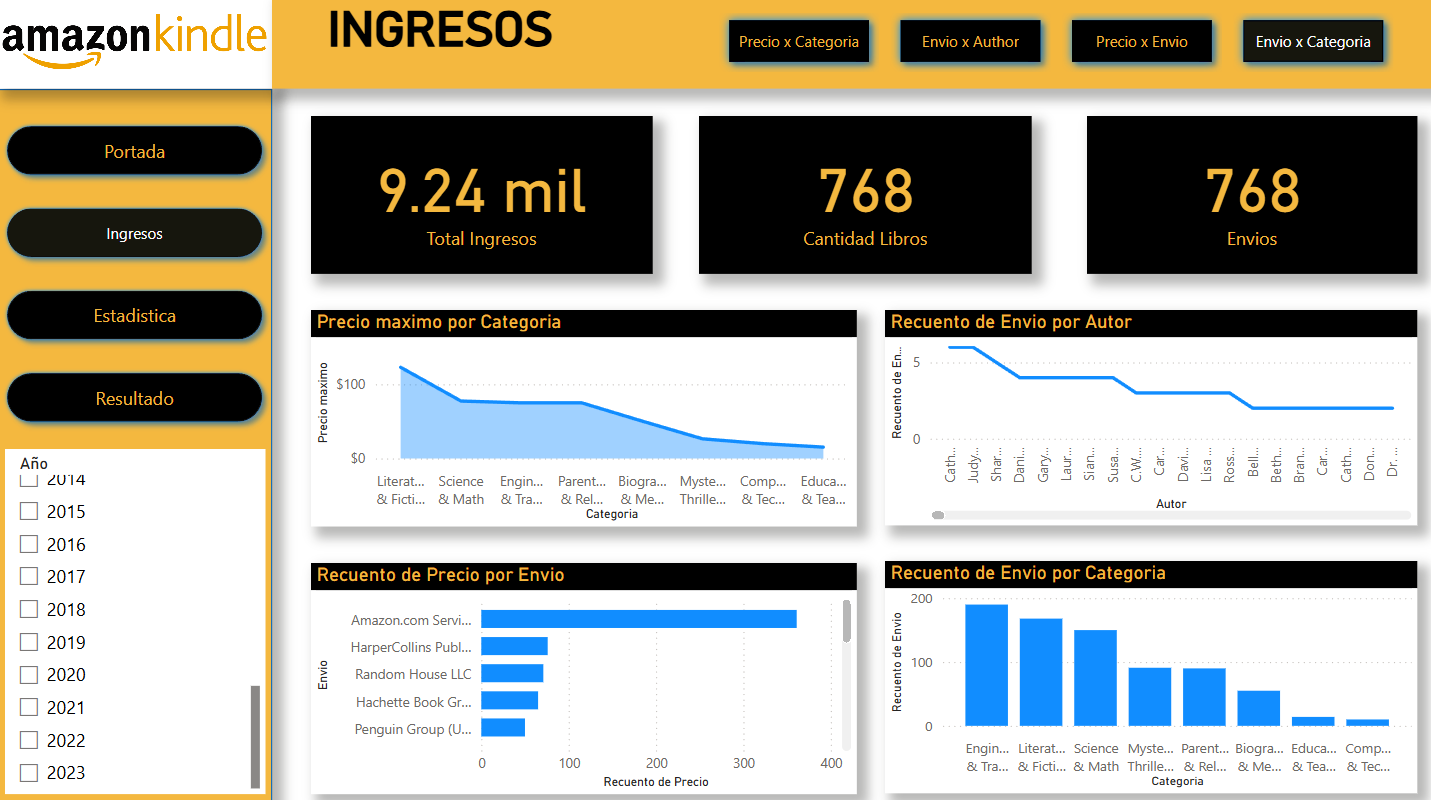

The dashboard page shown, as its layout file describes it:
{"tool":"powerbi","page":{"name":"Ingresos","canvas":[1280,720],"ordinal":1},"visuals":[{"type":"card","fields":{"Values":["Medida.Total Ingresos"]},"box":[278.3,107.7,302.5,140],"z":0},{"type":"barChart","fields":{"Category":["Libros.soldBy"],"Y":["Libros.price"]},"box":[278.3,503.6,483.9,204.7],"z":1000},{"type":"shape","box":[0,83.5,244.2,636.5],"z":2000},{"type":"pageNavigator","box":[0,107.7,244.2,280.1],"z":3000},{"type":"image","box":[0,0,244.2,83.5],"z":4000},{"type":"textbox","box":[244.2,0,1036,83.5],"z":5000},{"type":"card","fields":{"Values":["Medida.Cantidad Libros"]},"box":[622.1,107.7,295.4,140],"z":6000},{"type":"card","fields":{"Values":["Medida.Envios"]},"box":[966.9,107.7,292.7,140],"z":7000},{"type":"columnChart","fields":{"Category":["Libros.category_name"],"Y":["Libros.Envio"]},"box":[787.3,501.8,472.2,206.5],"z":8000},{"type":"lineChart","fields":{"Category":["Libros.author"],"Y":["Libros.Envio"]},"box":[787.3,279.2,472.2,191.2],"z":9000},{"type":"stackedAreaChart","fields":{"Category":["Libros.Categoria"],"Y":["Medida.Precio maximo"]},"box":[278.4,279.5,483.7,191.7],"z":10000},{"type":"slicer","fields":{"Values":["Calendario.Año"]},"box":[7.2,402.2,230.7,306.1],"z":11000},{"type":"bookmarkNavigator","box":[640,13.1,599.6,55.5],"z":12000}]}

Visuals, with their boxes in screenshot pixels (x1, y1, x2, y2), scaled from the page's 1280x720 canvas onto the 1431x800 screenshot:
card - Medida.Total Ingresos: <region>311, 120, 649, 275</region>
barChart - Libros.soldBy x Libros.price: <region>311, 560, 852, 787</region>
shape: <region>0, 93, 273, 799</region>
pageNavigator: <region>0, 120, 273, 431</region>
image: <region>0, 0, 273, 93</region>
textbox: <region>273, 0, 1430, 93</region>
card - Medida.Cantidad Libros: <region>695, 120, 1026, 275</region>
card - Medida.Envios: <region>1081, 120, 1408, 275</region>
columnChart - Libros.category_name x Libros.Envio: <region>880, 558, 1408, 787</region>
lineChart - Libros.author x Libros.Envio: <region>880, 310, 1408, 523</region>
stackedAreaChart - Libros.Categoria x Medida.Precio maximo: <region>311, 311, 852, 524</region>
slicer - Calendario.Año: <region>8, 447, 266, 787</region>
bookmarkNavigator: <region>716, 15, 1386, 76</region>
